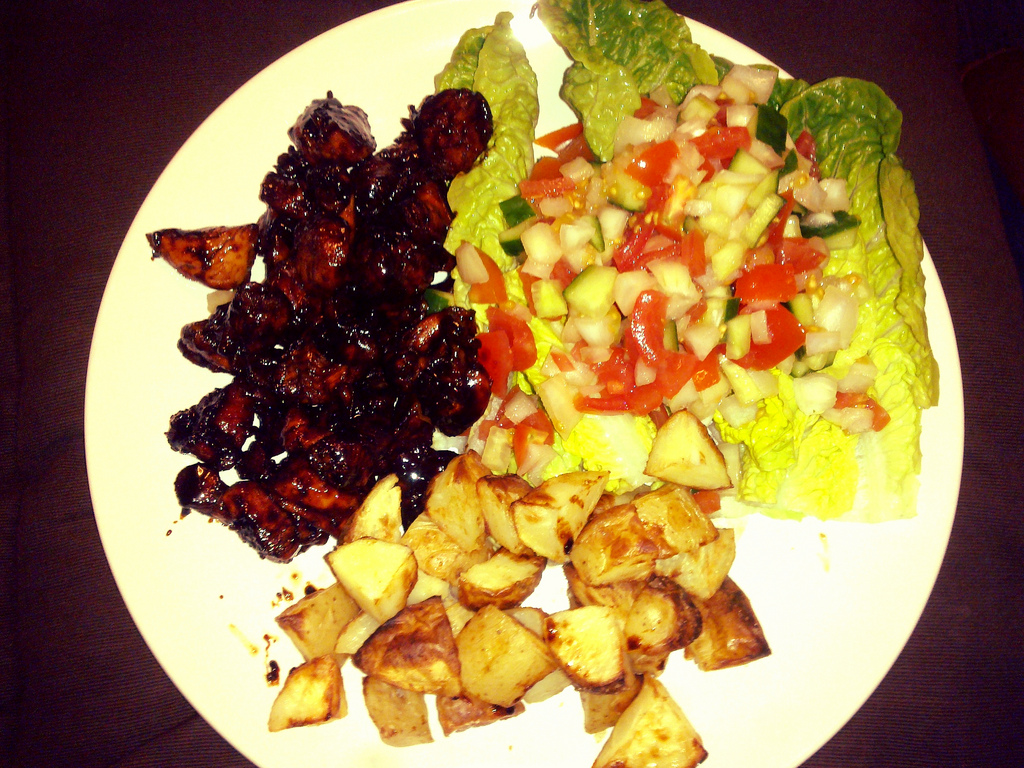boiled potatoes: (575, 674, 697, 768), (414, 464, 493, 590), (463, 602, 552, 704), (357, 615, 458, 700), (676, 584, 762, 678), (610, 583, 710, 652), (653, 535, 743, 605), (582, 500, 646, 593), (331, 541, 405, 621), (519, 470, 584, 556), (551, 620, 627, 688), (266, 657, 340, 726), (636, 495, 705, 567), (281, 595, 361, 656), (469, 478, 528, 553), (657, 421, 719, 487)
chopped lettuce: (786, 96, 937, 487), (429, 42, 537, 281), (538, 1, 702, 156)
